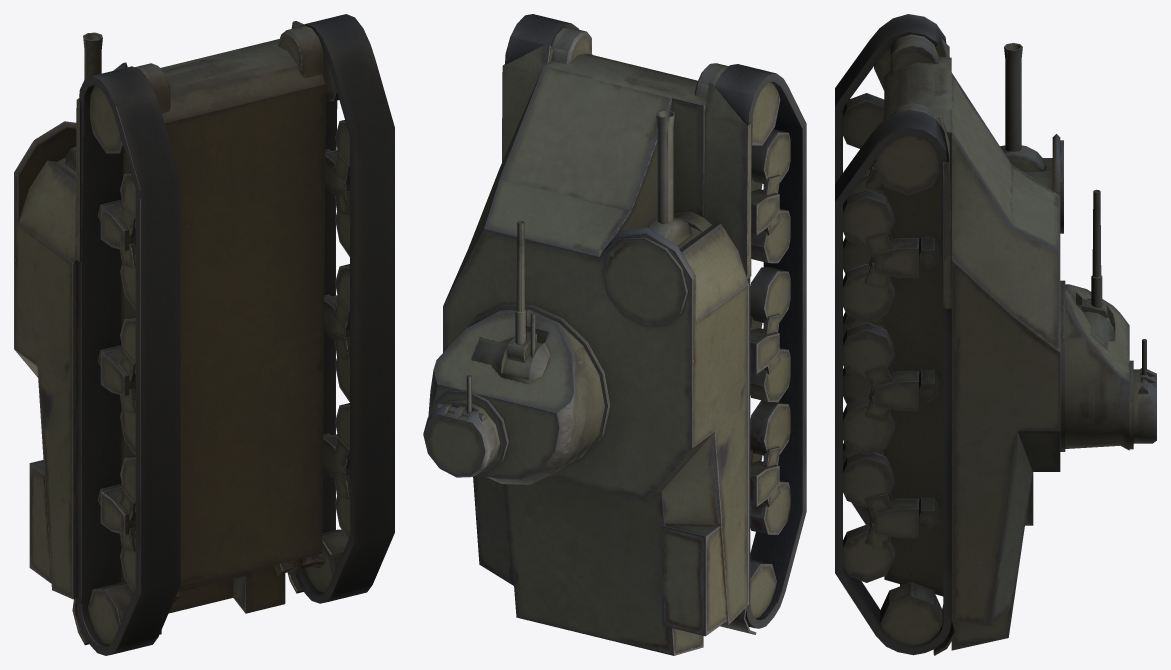
3 views of the same model, side by side, from view 1: azimuth 30°, elevation 25°; view 2: azimuth 150°, elevation 25°; view 3: azimuth 270°, elevation 25° (orthographic). The views are drawn at different scales.
Visible parts, largest first — view 1: M3; view 2: M3, M3 Turret; view 3: M3, M3 Turret.
Boxes of the visible parts, box(x1,y1,x2,y2) form: M3: box(14, 14, 394, 655); M3: box(443, 14, 806, 655); M3 Turret: box(423, 220, 610, 484); M3: box(835, 14, 1063, 655); M3 Turret: box(1060, 189, 1156, 451).
Size of the model in its own units: 108 by 235 by 126.
